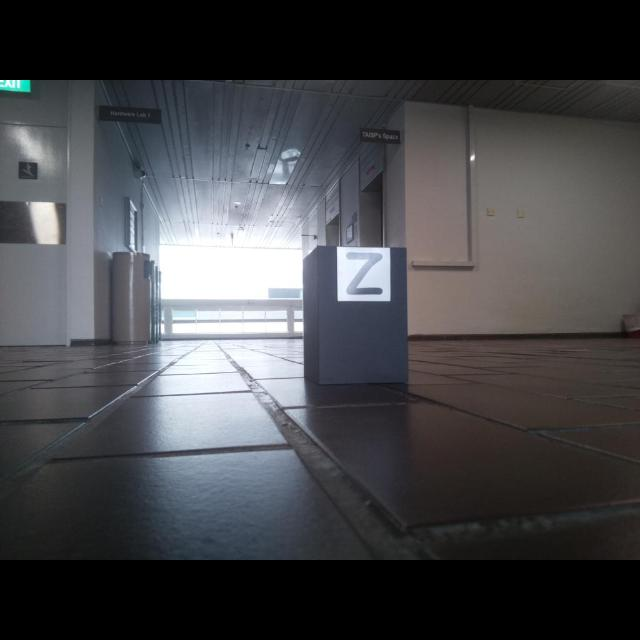Z: (346, 253, 383, 295)
